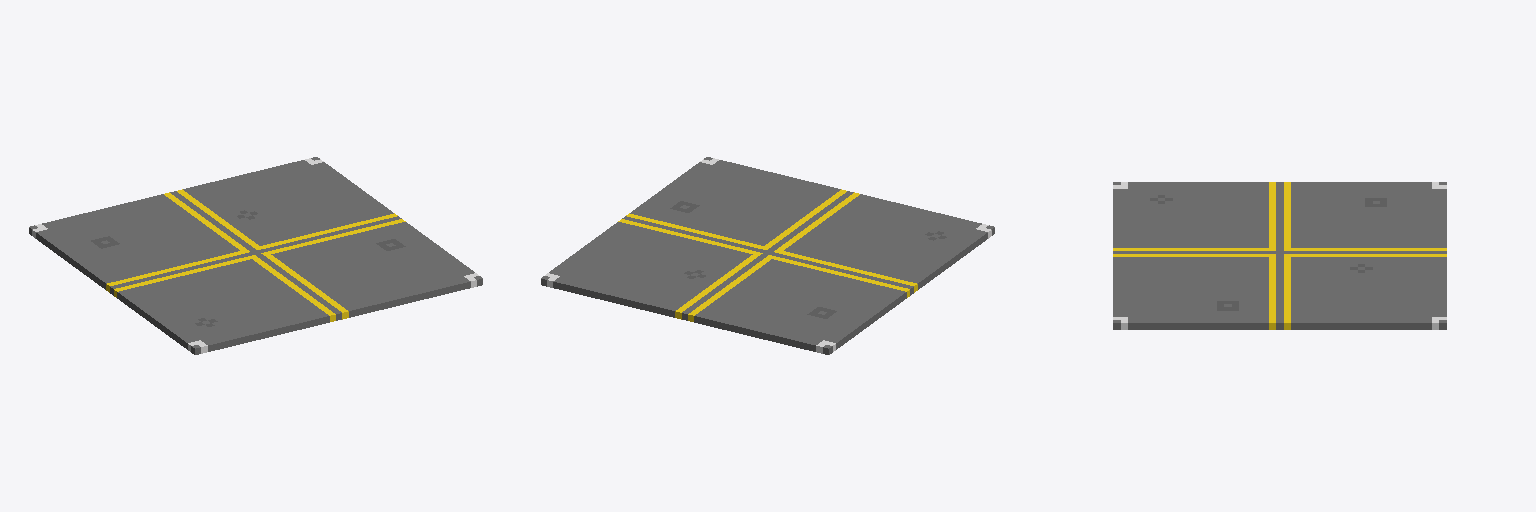
3 views of the same model, side by side, from view 1: azimuth 30°, elevation 25°; view 2: azimuth 150°, elevation 25°; view 3: azimuth 270°, elevation 25° (orthographic).
Visible parts, largest first — view 1: Box_83; view 2: Box_83; view 3: Box_83.
Boxes of the visible parts, x1=… form: Box_83: x1=29, y1=157, x2=482, y2=354; Box_83: x1=541, y1=157, x2=994, y2=354; Box_83: x1=1113, y1=182, x2=1446, y2=329.
Bounding box in the file's own units: 45 × 1 × 45.
1 materials, 1 textured.